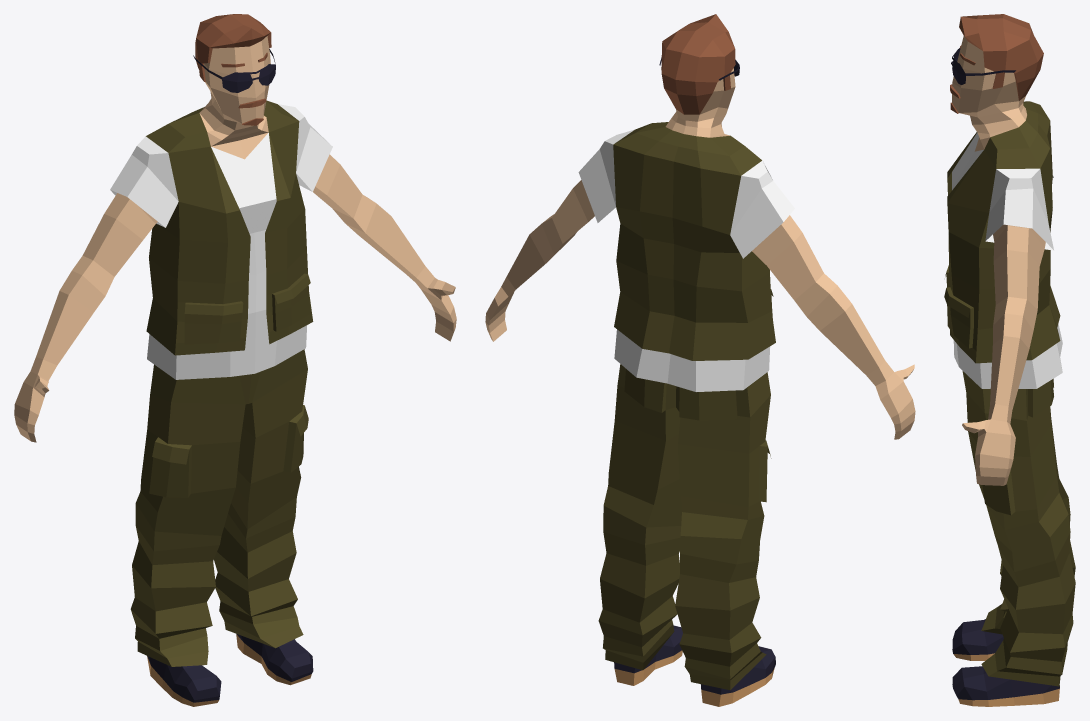
File: low_poly_male_02_a.glb
The picture shows the model from 3 angles, left to right: view 1: azimuth 30°, elevation 25°; view 2: azimuth 150°, elevation 25°; view 3: azimuth 270°, elevation 25°; orthographic projection. The views are drawn at different scales.
Parts seen in each view (by area): view 1: male_02_a; view 2: male_02_a; view 3: male_02_a.
Boxes of the visible parts, bbox=[...] form: male_02_a: bbox=[14, 14, 456, 706]; male_02_a: bbox=[485, 14, 915, 706]; male_02_a: bbox=[944, 14, 1075, 706].
Bounding box in the file's own units: 1.27 × 1.88 × 0.3398.
1 material, 1 textured.
